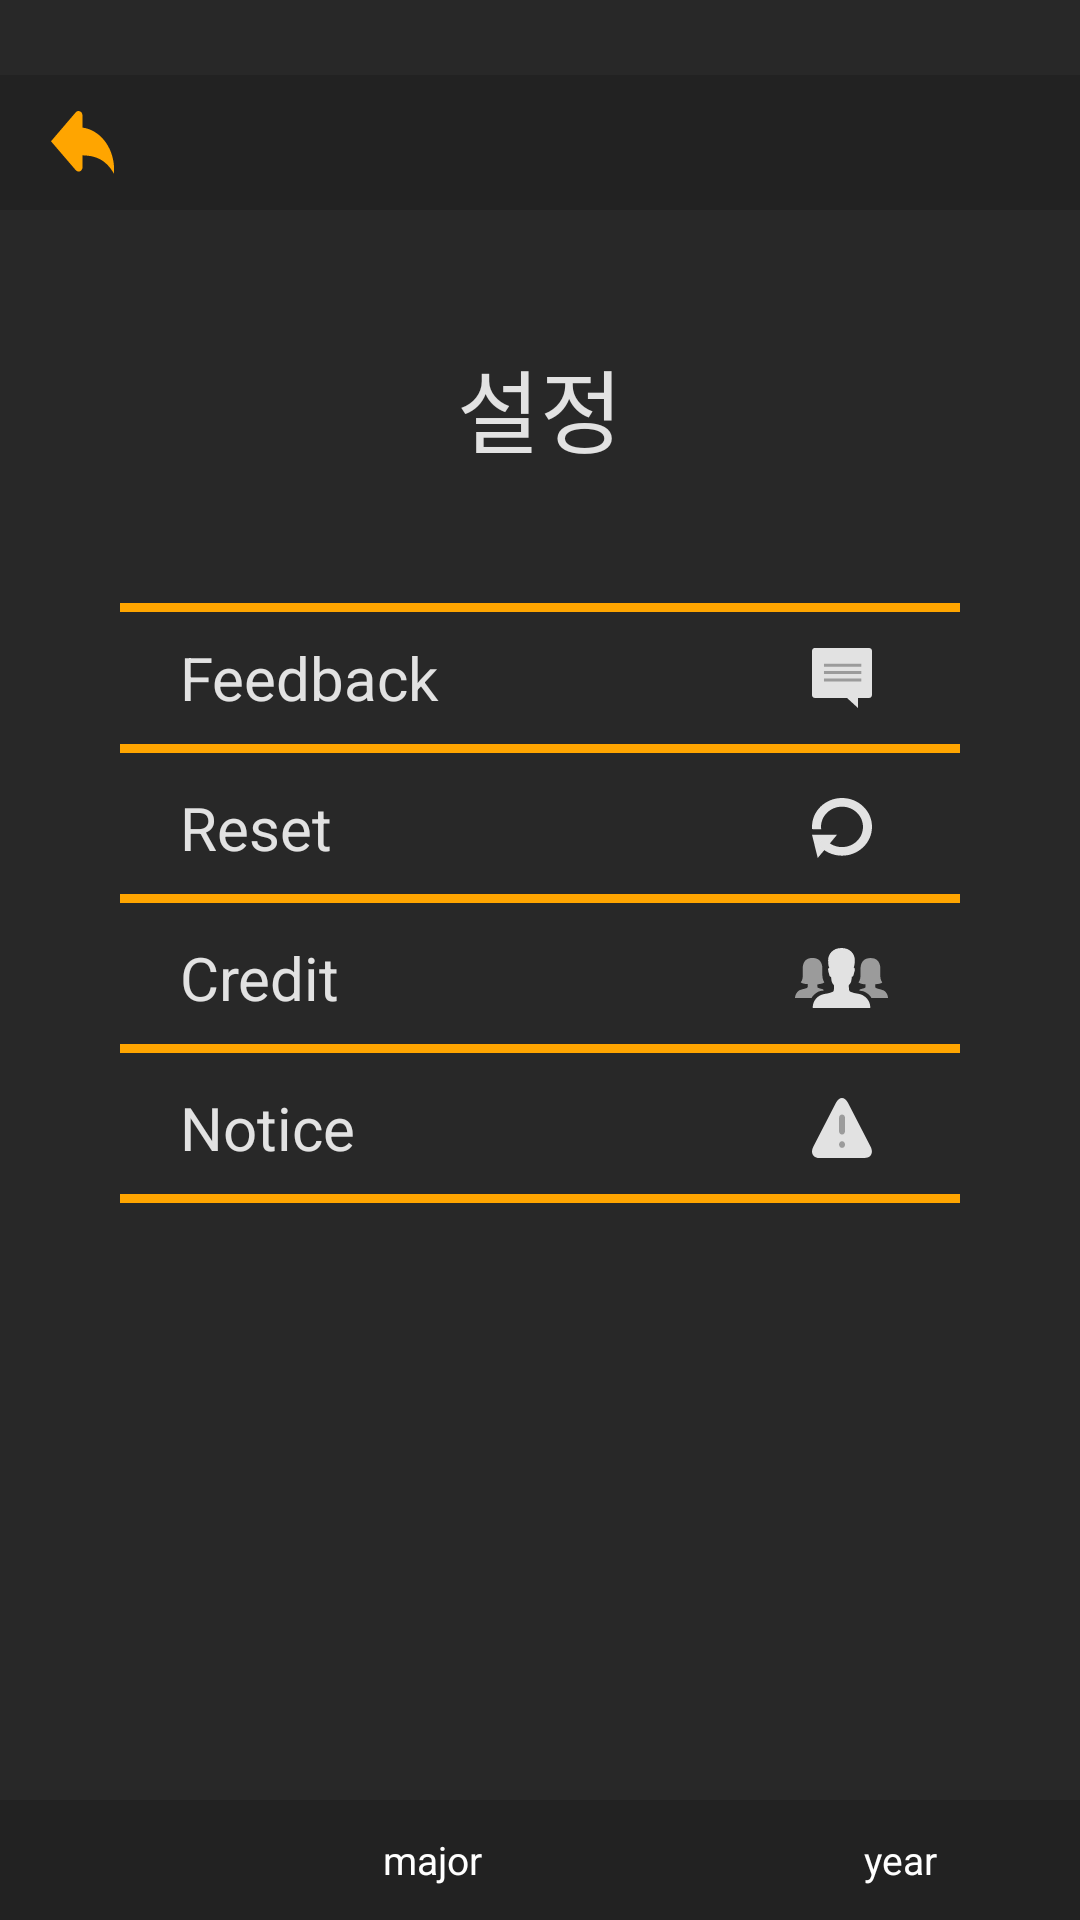

Icon bounding boxes for this 1080px x 1920px phone screenshot, format Rect(x1, y1, x2, y2):
return: Rect(51, 111, 114, 174)
